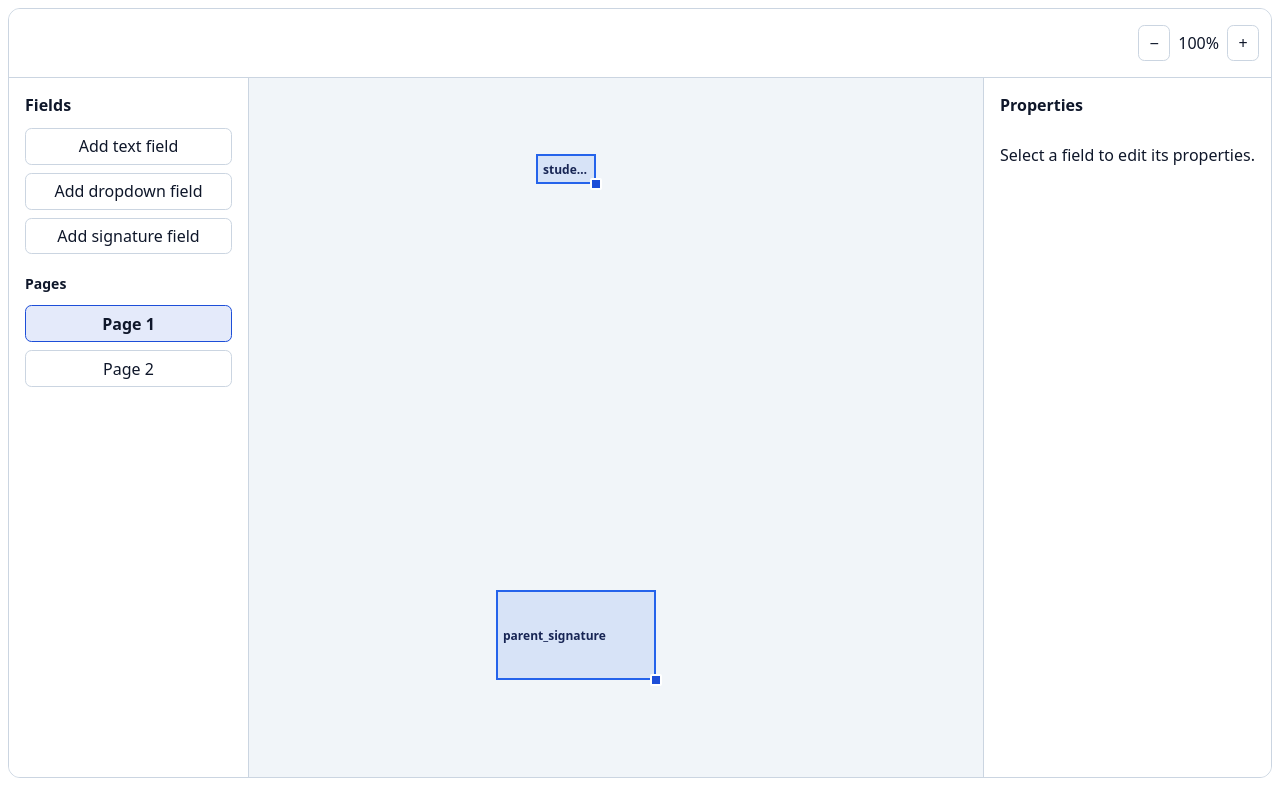
Test: PdfFormDesigner › clears rejected name state when an exact geometry edit commits the selected stored field
Click the button named "Text field \"student_name\"" at {"x": 566, "y": 169}, box [536, 154, 596, 184]
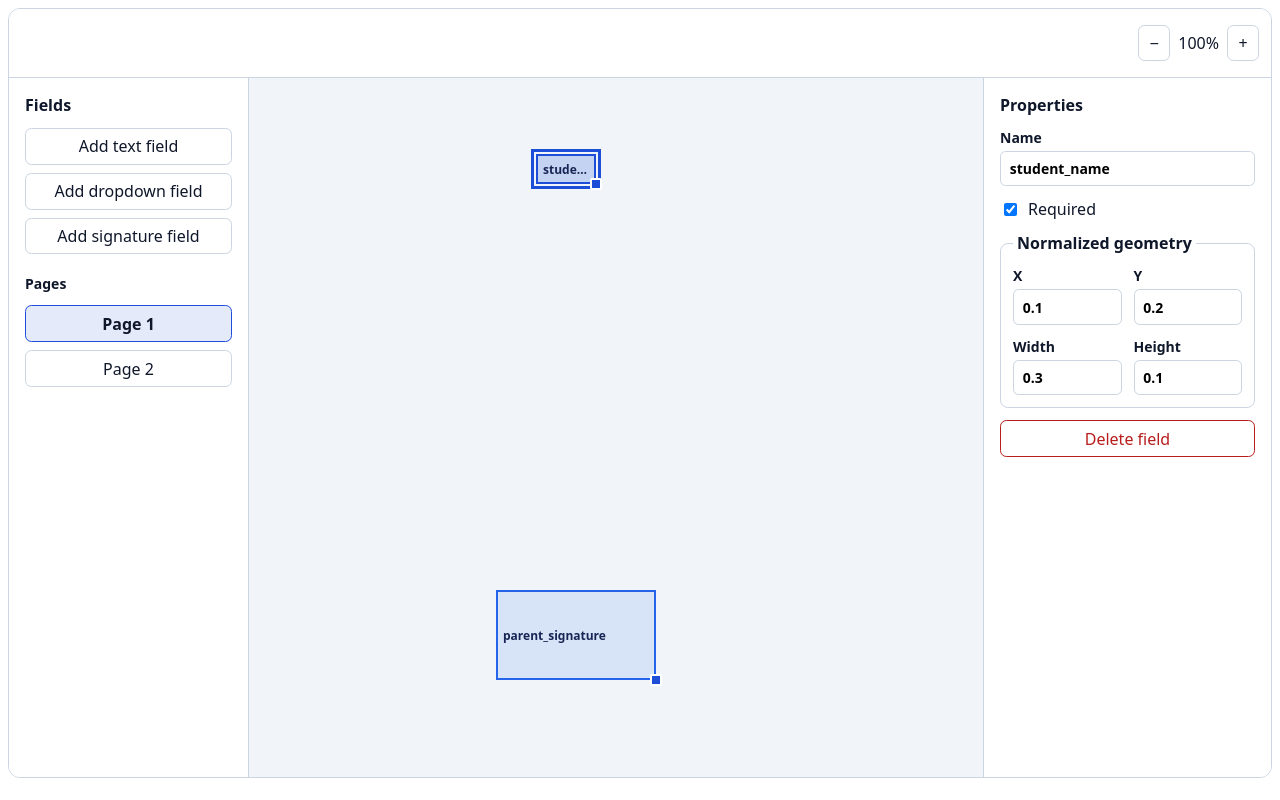
Replace the text in the field labelled "Name" with "parent_signature" at {"x": 1128, "y": 169}, box [1000, 151, 1255, 186]
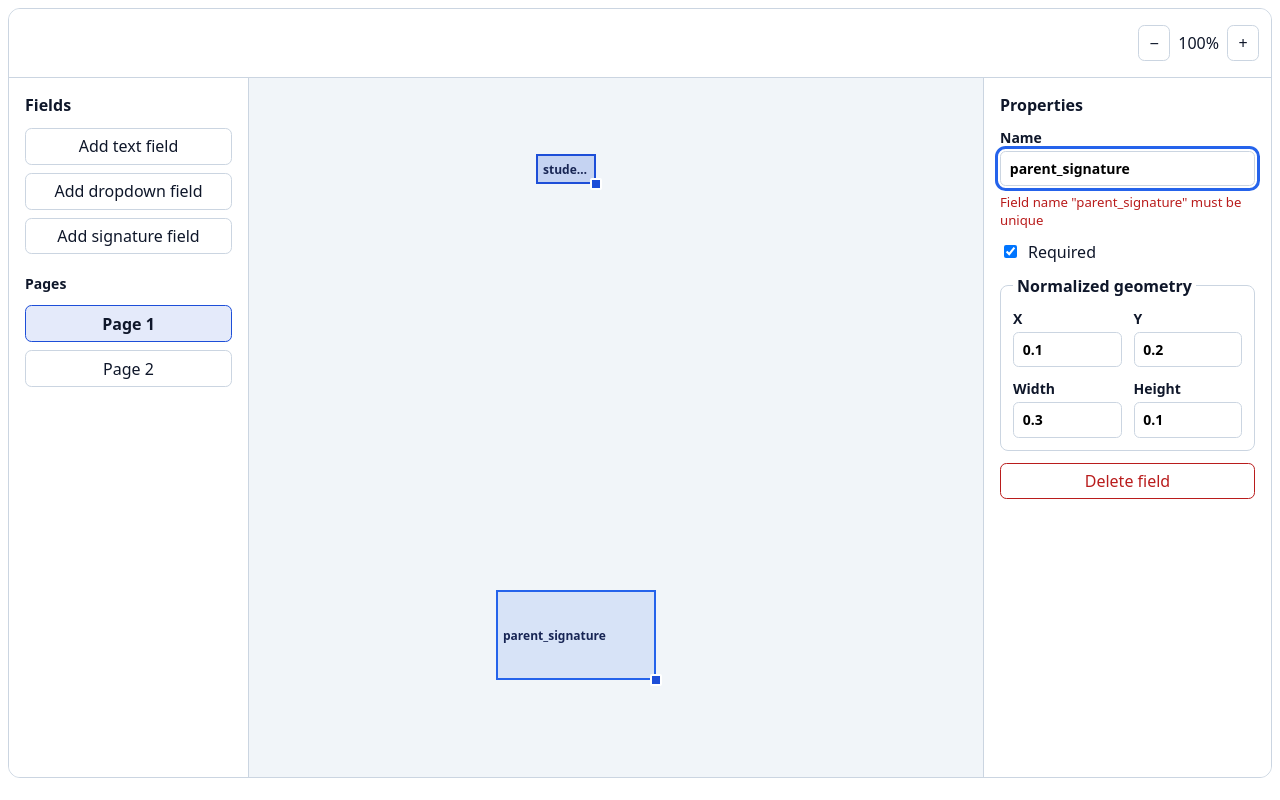
Expected: the message shows "unique", [1000, 193, 1241, 229]
Replace the text in the number field labelled "X" with "0.25" at {"x": 1067, "y": 350}, box [1013, 332, 1122, 367]
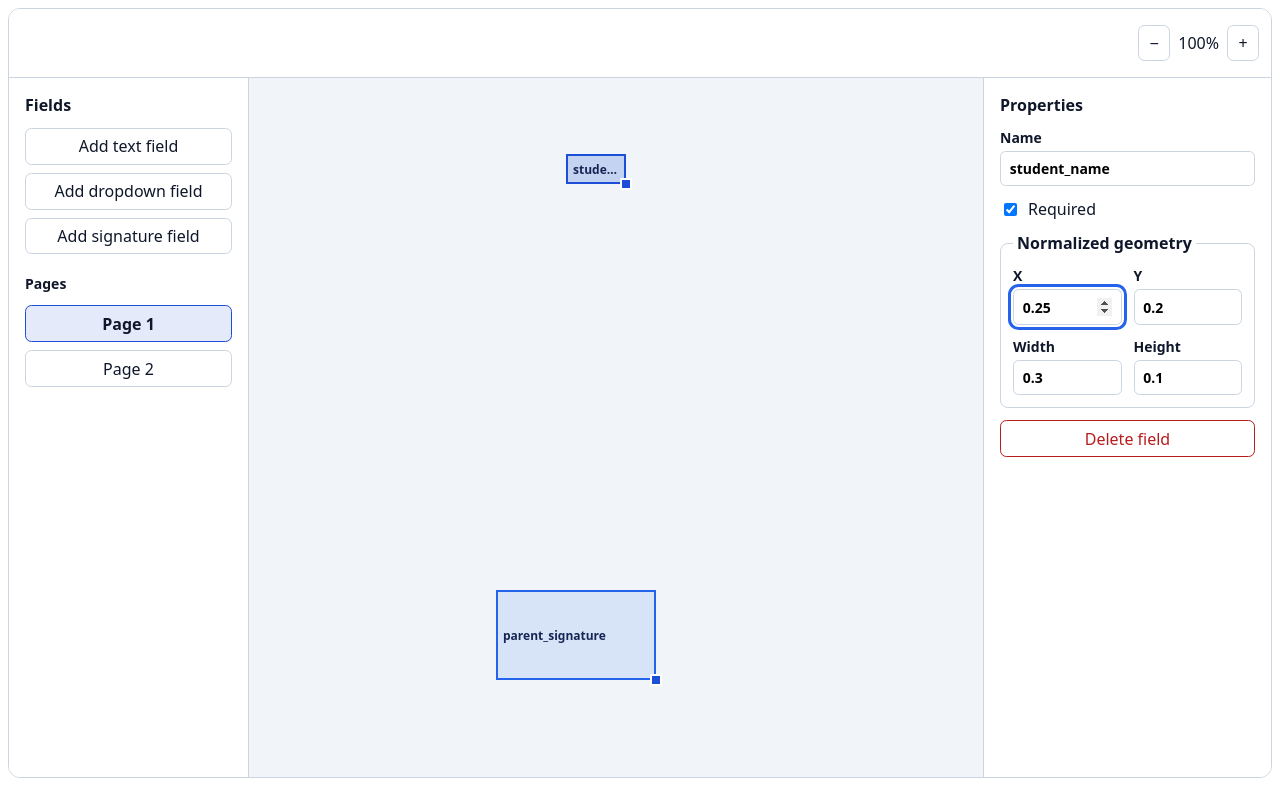
Expected: the field labelled "Name" holds "student_name", [1000, 151, 1255, 186]
